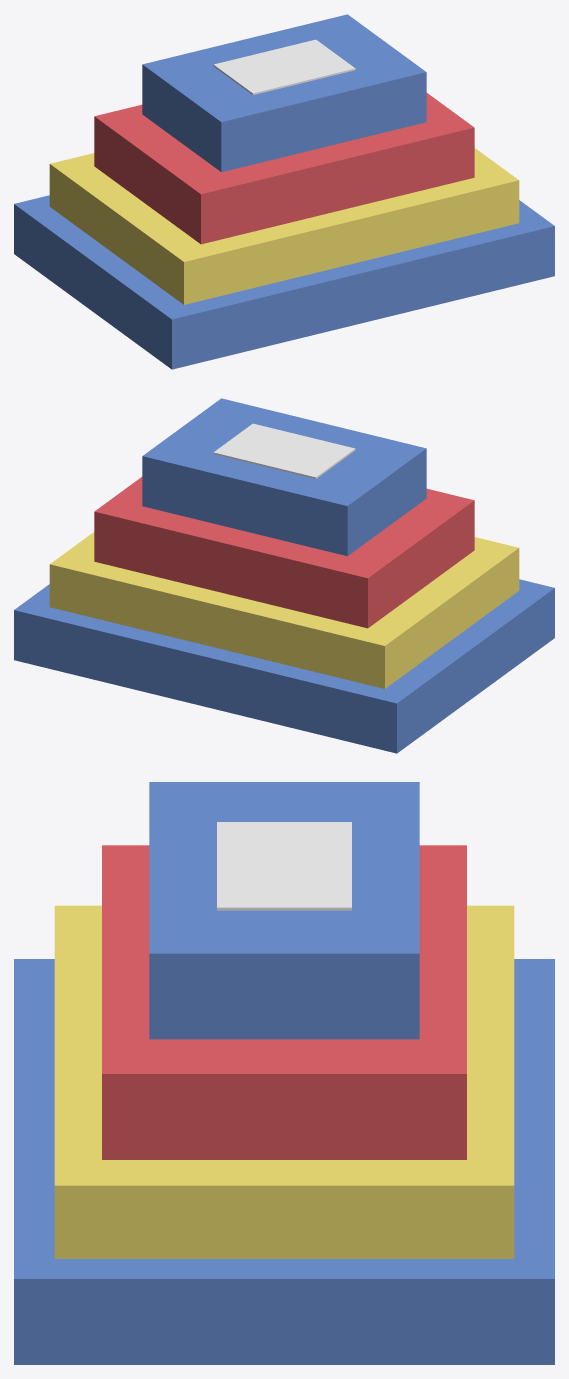
The model's file is junina_saia.glb.
3 views of the same model, one above another, from view 1: azimuth 30°, elevation 25°; view 2: azimuth 150°, elevation 25°; view 3: azimuth 270°, elevation 25° (orthographic). The views are drawn at different scales.
Visible parts, largest first — view 1: junina_saia; view 2: junina_saia; view 3: junina_saia.
Boxes of the visible parts, <box> form: junina_saia: <box>14,14,554,369</box>; junina_saia: <box>14,398,554,753</box>; junina_saia: <box>14,782,554,1364</box>.
Size of the model in its own units: 1.12 by 0.56 by 0.8.
